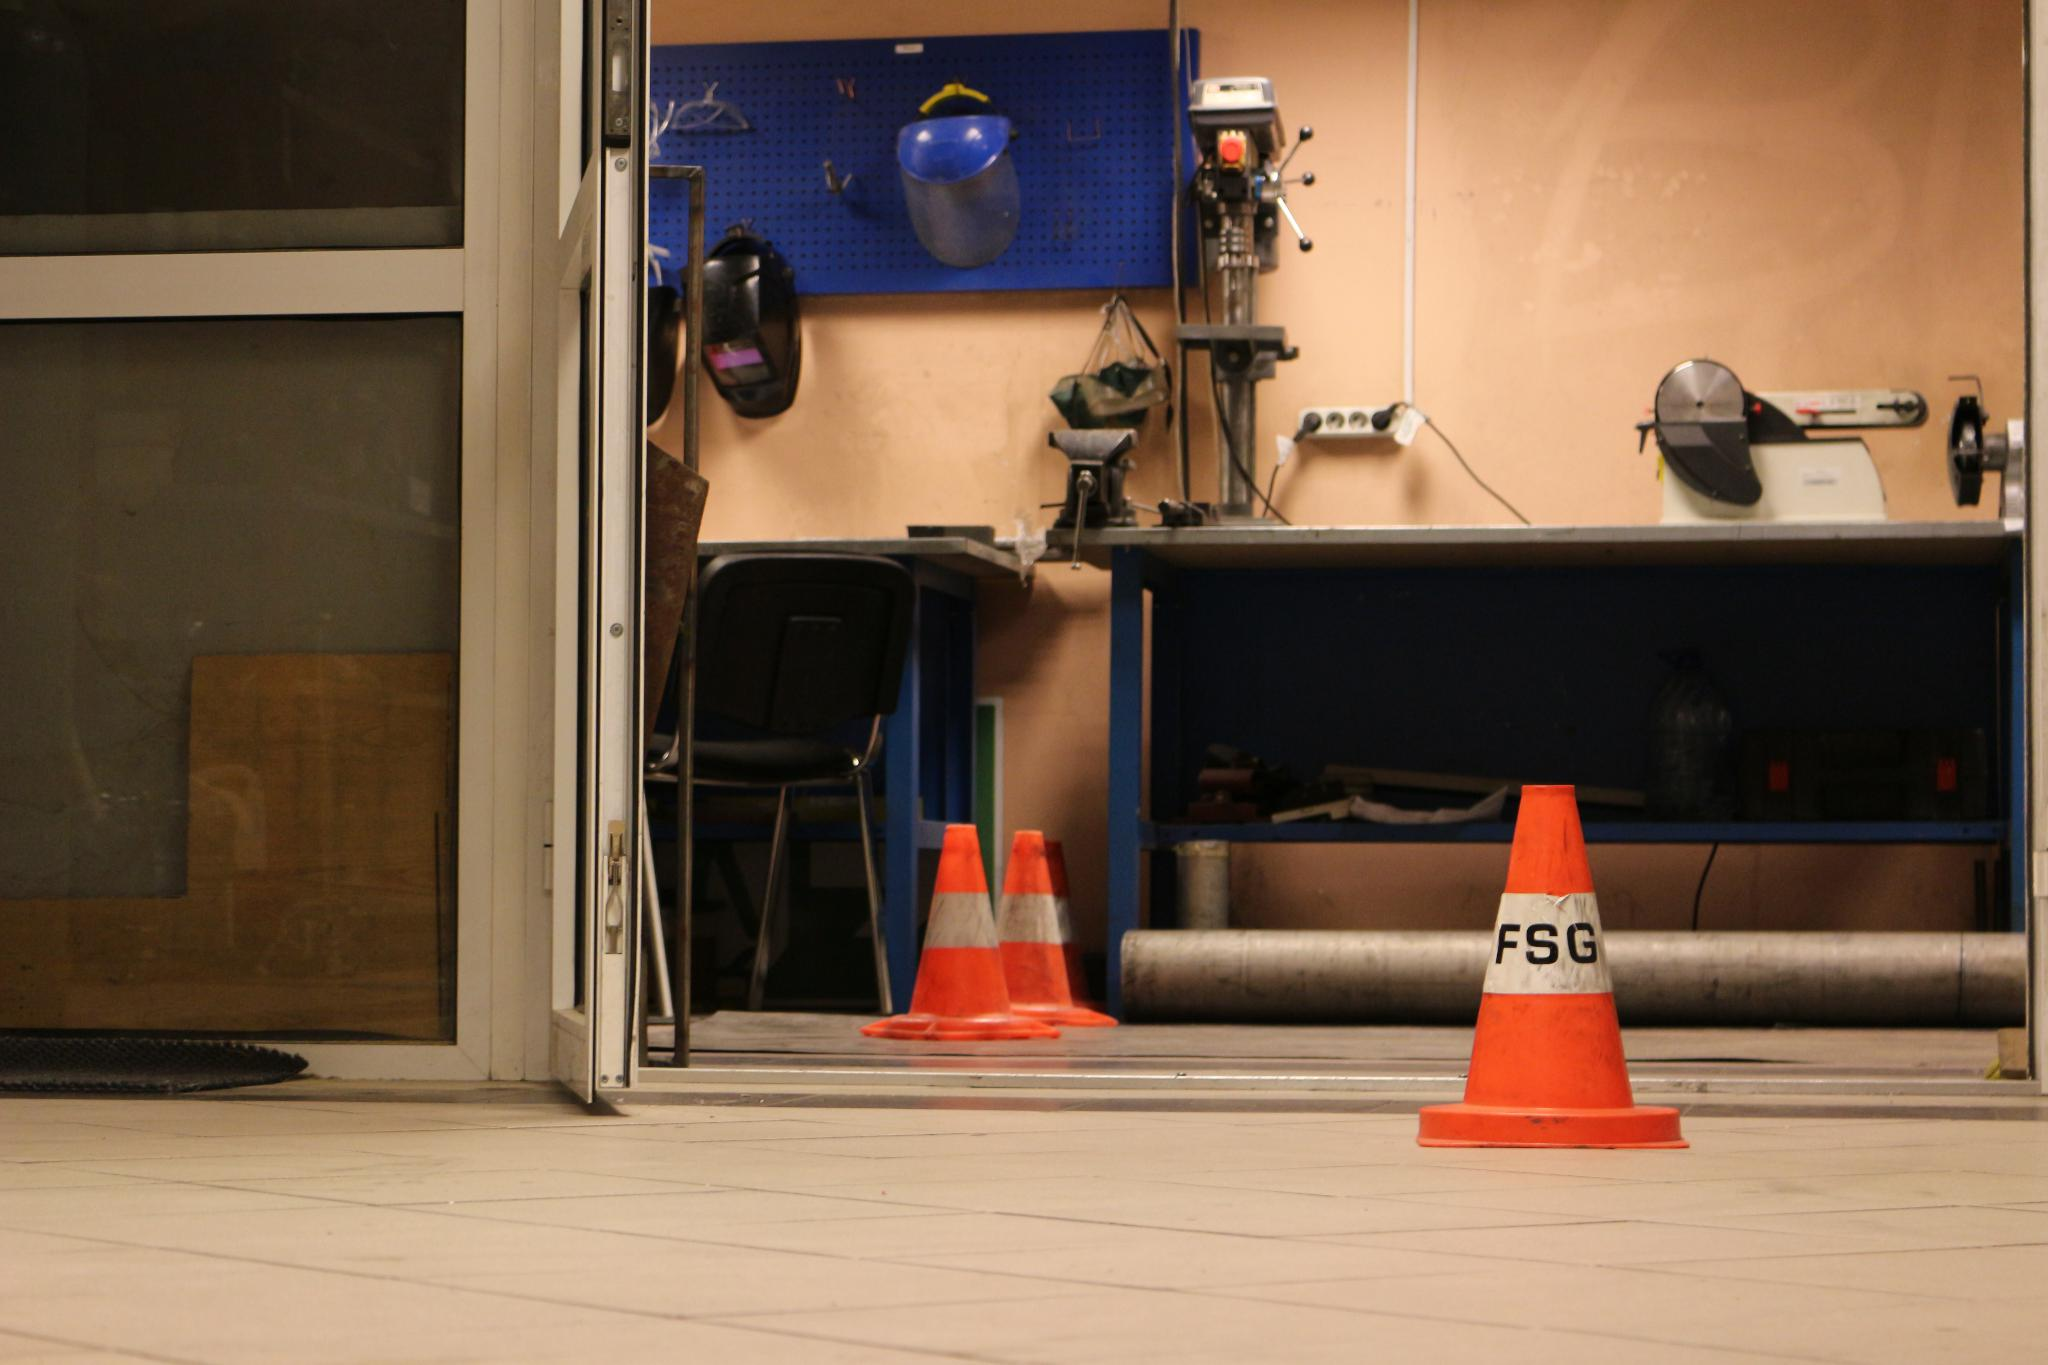Orange_Cone: (1404, 769, 1701, 1153), (871, 817, 1052, 1045), (961, 823, 1128, 1033)
